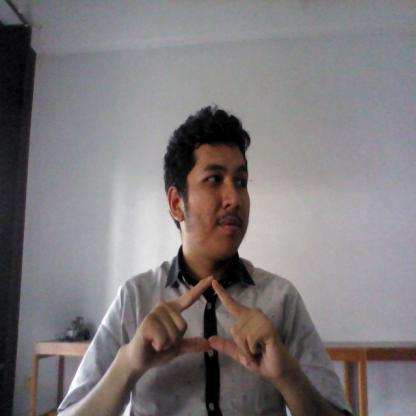A: (128, 274, 286, 379)
